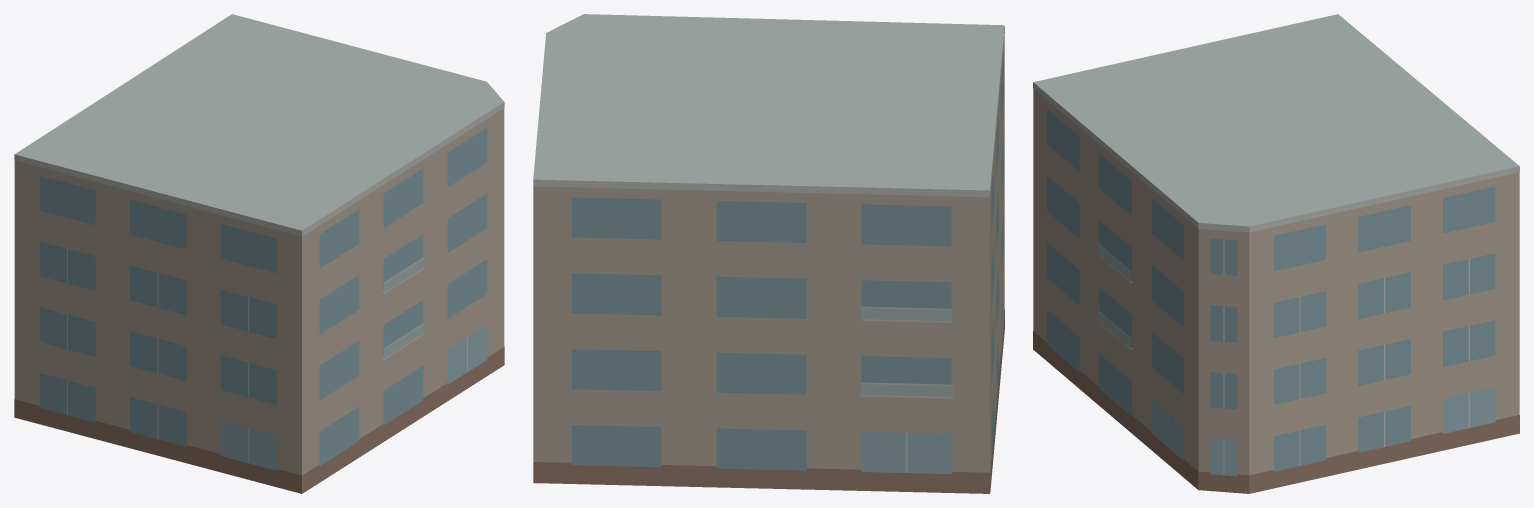
File: survey-upis-32803950.glb
The picture shows the model from 3 angles, left to right: view 1: azimuth 30°, elevation 25°; view 2: azimuth 150°, elevation 25°; view 3: azimuth 270°, elevation 25°; orthographic projection. The views are drawn at different scales.
Visible parts, largest first — view 1: survey-upis-32803950.tmp; view 2: survey-upis-32803950.tmp; view 3: survey-upis-32803950.tmp.
Boxes of the visible parts, <box> form: survey-upis-32803950.tmp: <box>14,14,504,493</box>; survey-upis-32803950.tmp: <box>533,14,1004,493</box>; survey-upis-32803950.tmp: <box>1033,14,1519,493</box>.
Size of the model in its own units: 18.6 by 10.9 by 17.99.
